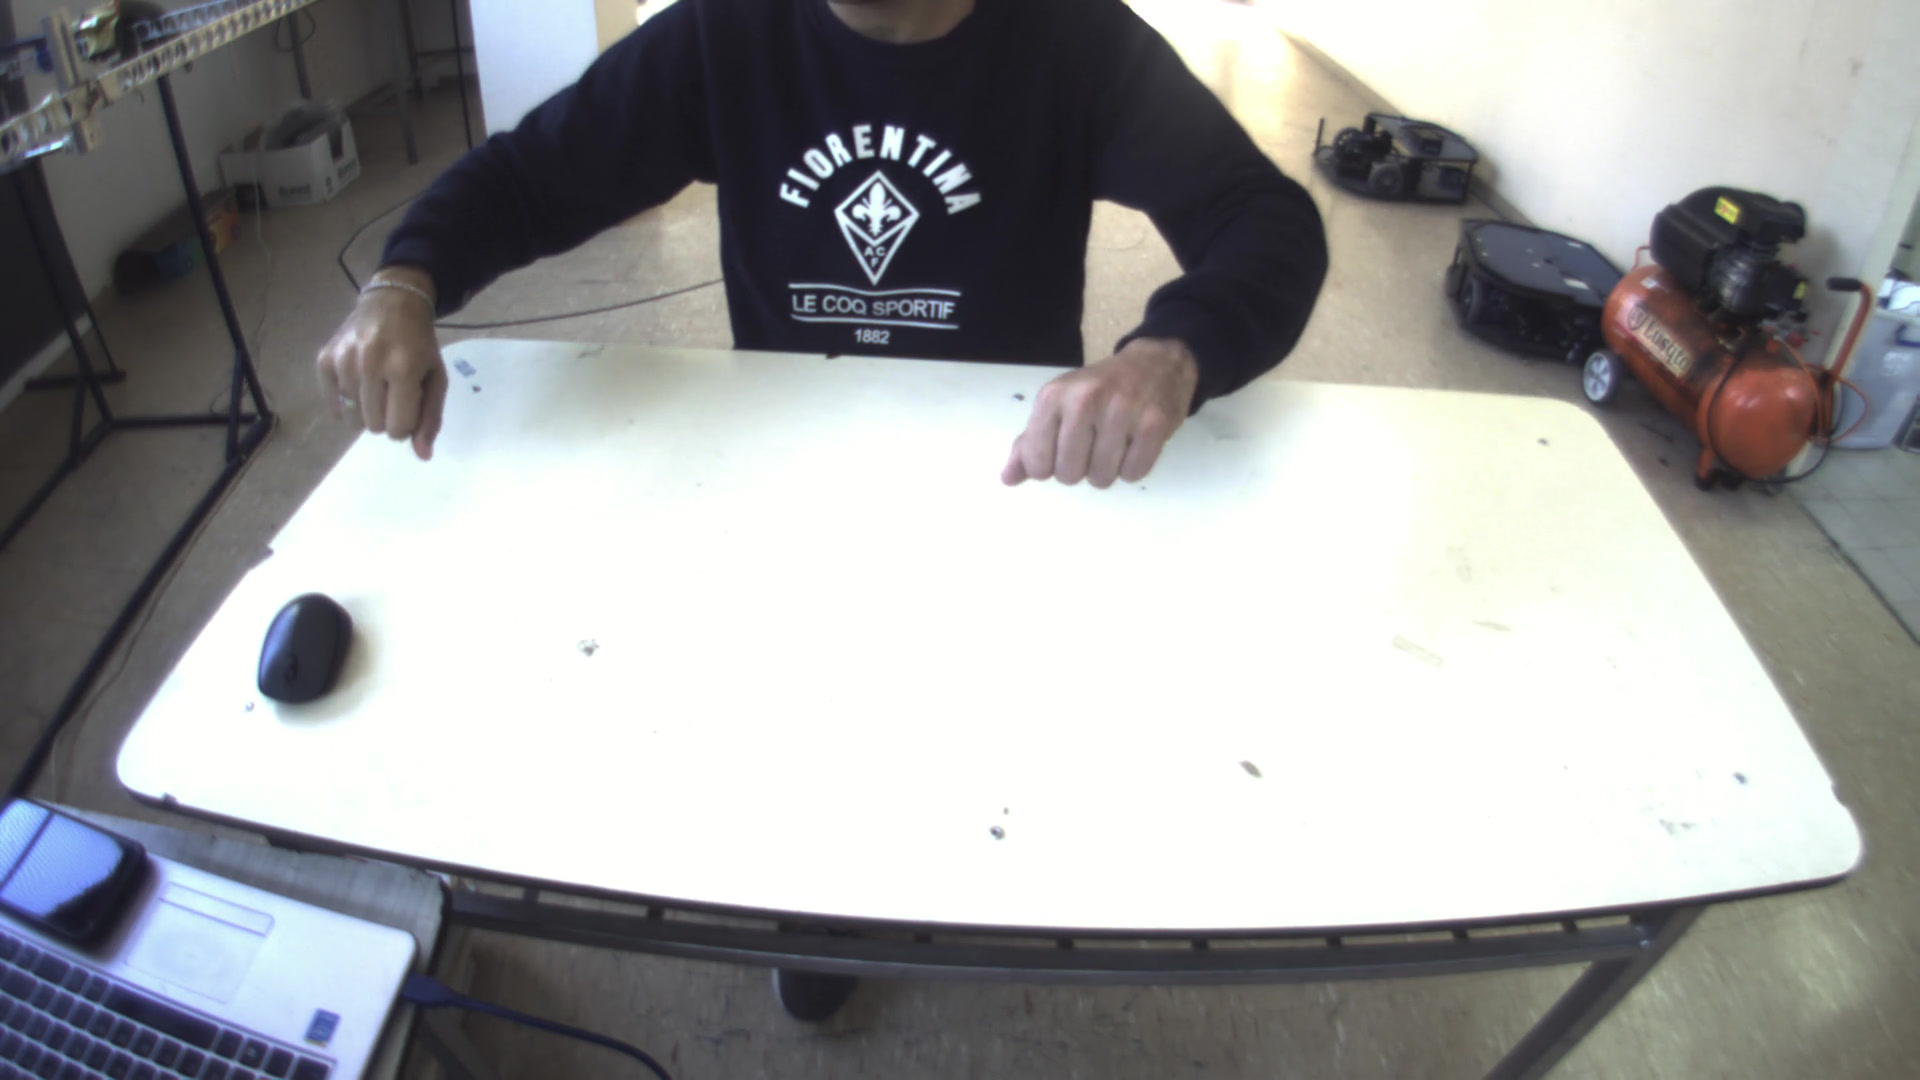hand: (1002, 324, 1204, 496), (307, 255, 451, 448)
